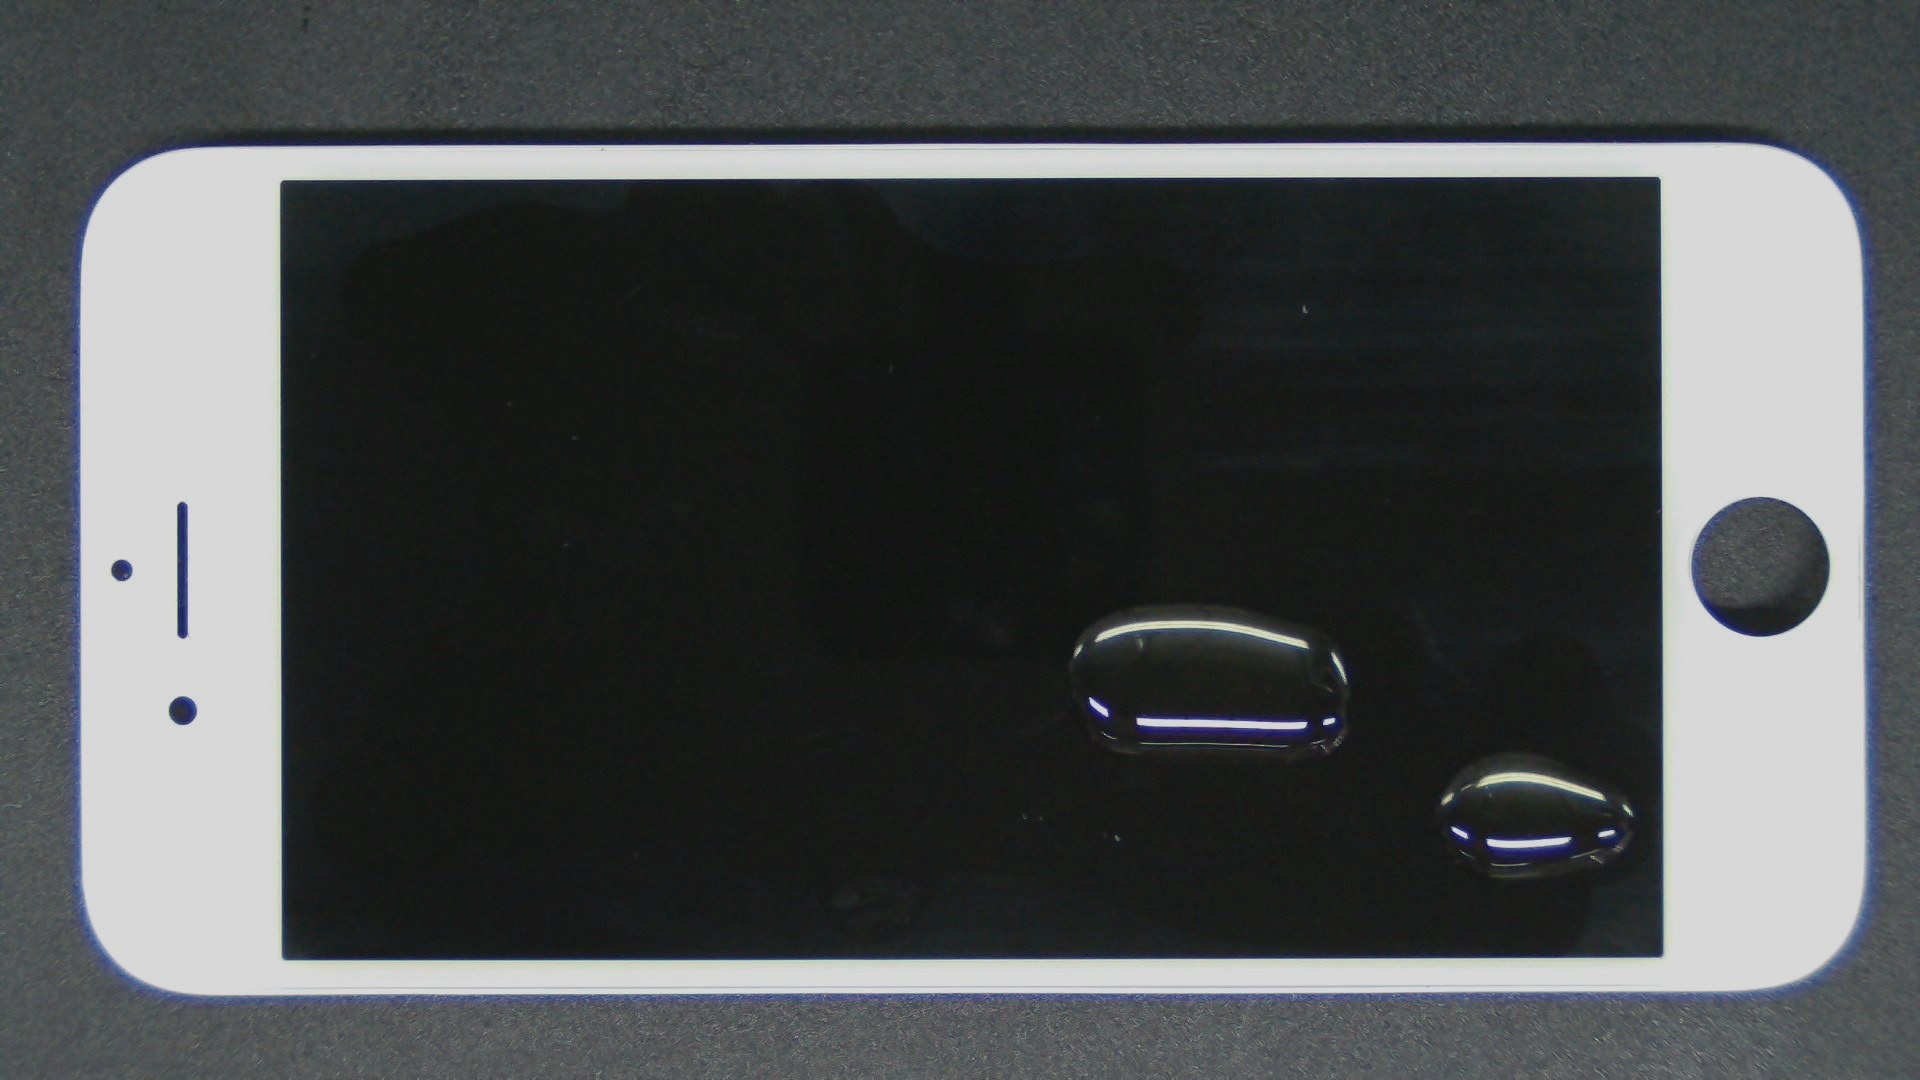oil: (756, 376, 1920, 1080), (596, 301, 1784, 905)
